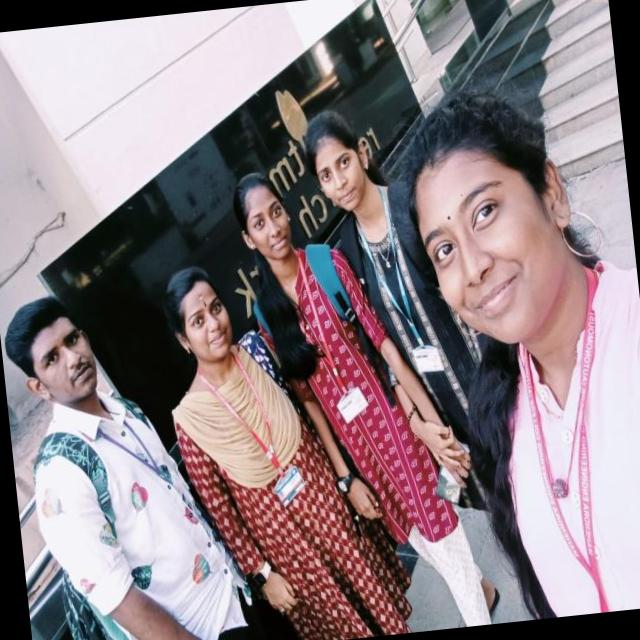id_card: (510, 318, 640, 614), (276, 253, 374, 432), (354, 191, 441, 385), (196, 358, 305, 511), (91, 378, 194, 539)
